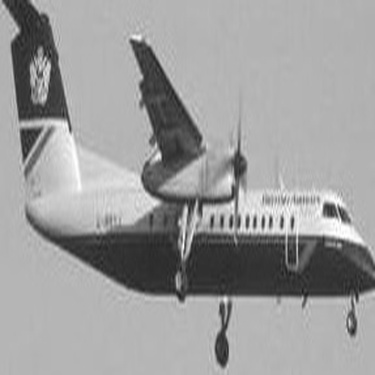airplane: (12, 15, 373, 368)
